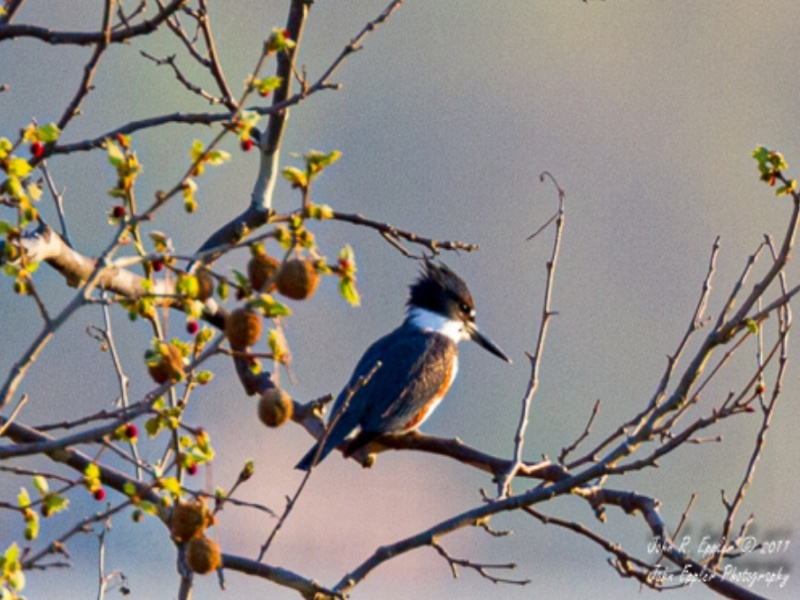kingfisher: (295, 251, 513, 472)
